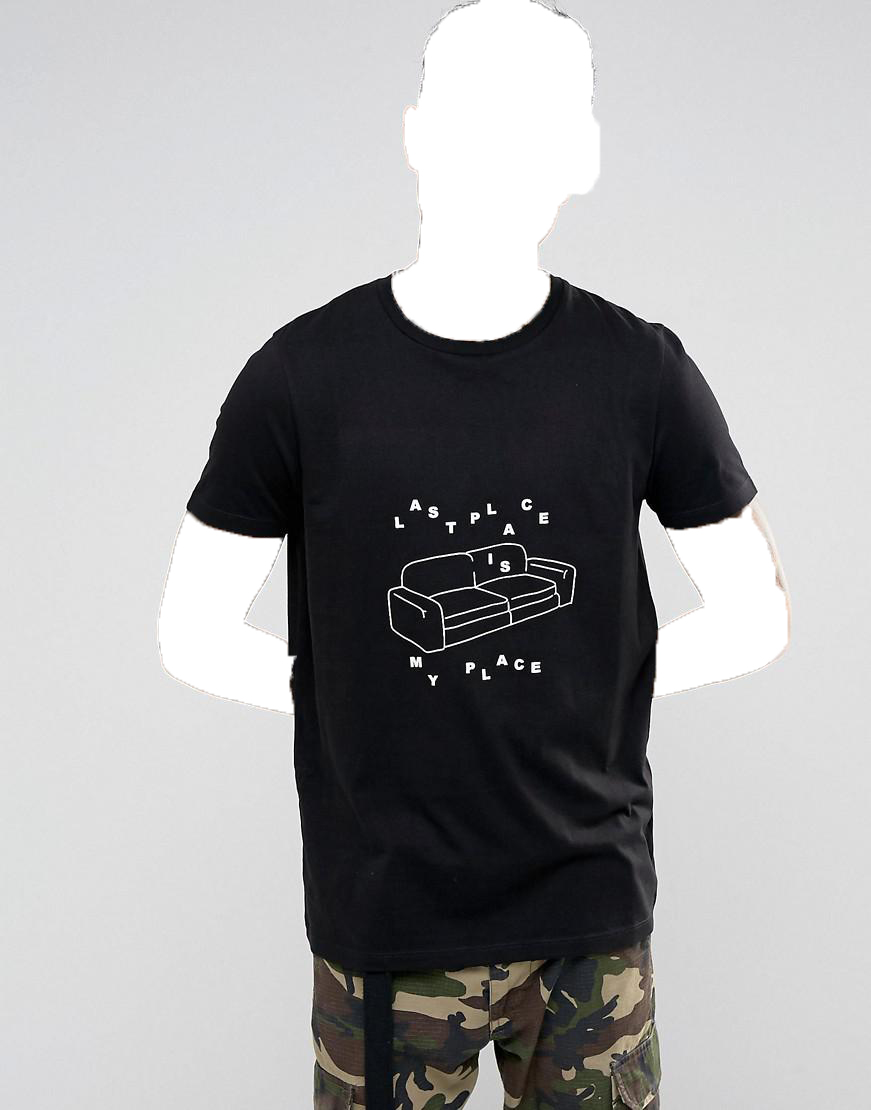teeshirt: (183, 262, 766, 979)
